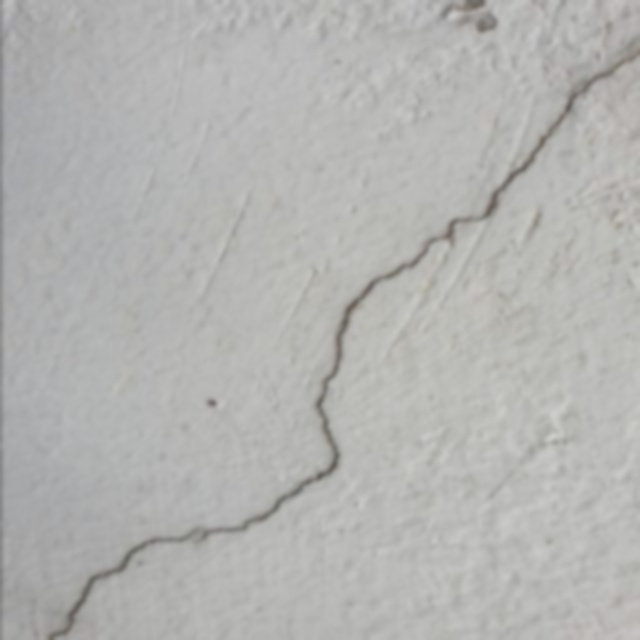SurfaceCrack: (3, 0, 640, 640)
